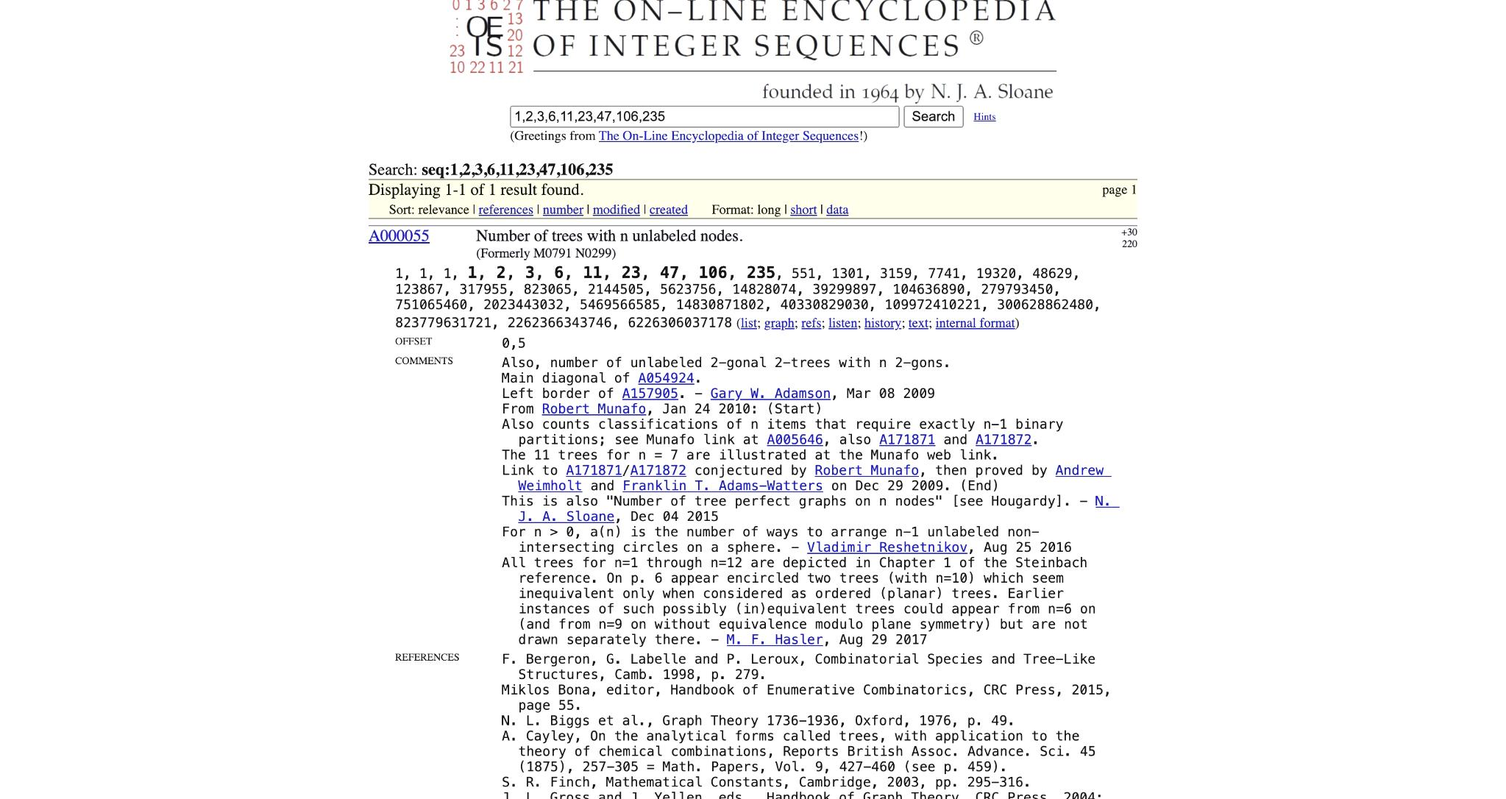webelement: (518, 493, 1120, 523), (518, 462, 1112, 492), (445, 90, 1060, 110), (510, 105, 899, 127), (598, 127, 859, 143), (621, 477, 822, 492), (806, 539, 967, 553), (710, 385, 830, 400), (541, 400, 646, 415), (814, 462, 919, 477), (727, 631, 823, 646), (904, 105, 963, 127), (936, 314, 1015, 330), (368, 226, 429, 245), (369, 159, 417, 178), (479, 201, 532, 217), (638, 369, 694, 384), (622, 385, 678, 400), (767, 431, 823, 446), (879, 431, 935, 446), (566, 462, 622, 477), (630, 462, 686, 477), (976, 431, 1031, 446), (592, 201, 639, 217), (542, 201, 582, 217), (650, 201, 688, 217), (864, 314, 901, 330), (763, 314, 793, 330), (828, 314, 857, 330), (790, 201, 817, 217), (826, 201, 848, 217), (908, 314, 928, 330), (801, 314, 820, 330), (973, 110, 995, 122), (741, 314, 757, 330)
